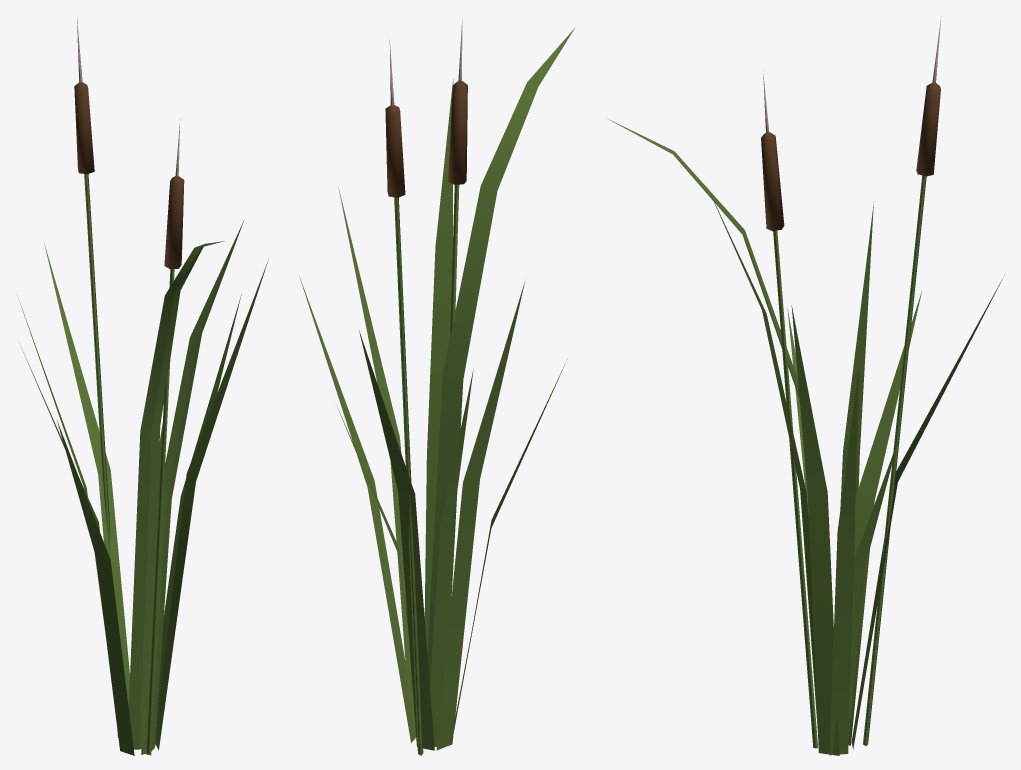
The model's file is river_reeds.glb.
3 views of the same model, side by side, from view 1: azimuth 30°, elevation 25°; view 2: azimuth 150°, elevation 25°; view 3: azimuth 270°, elevation 25° (orthographic). The views are drawn at different scales.
Visible parts, largest first — view 1: river_reeds_lod0; view 2: river_reeds_lod0; view 3: river_reeds_lod0.
Part boxes in pixels (x1,y1,x2,y2): river_reeds_lod0: [18, 18, 268, 755]; river_reeds_lod0: [299, 19, 575, 755]; river_reeds_lod0: [606, 16, 1004, 755].
Size of what is drawn, in the model's own units: 0.6533 by 1.98 by 0.9928.
